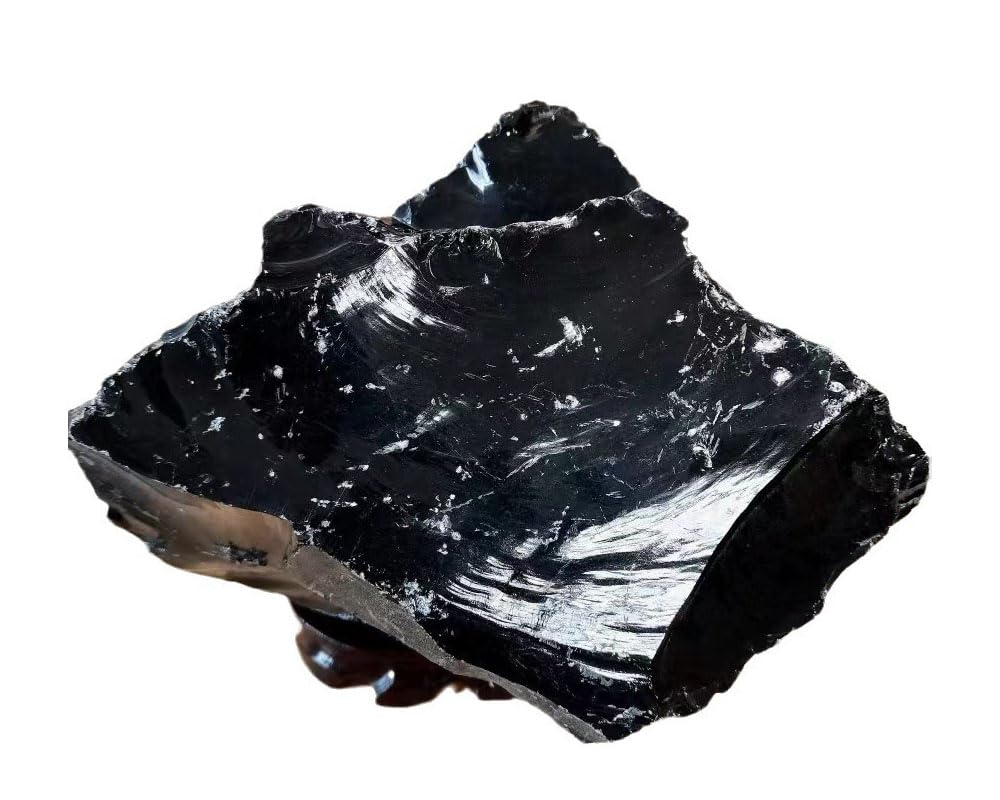Obsidian: (64, 101, 927, 740)
